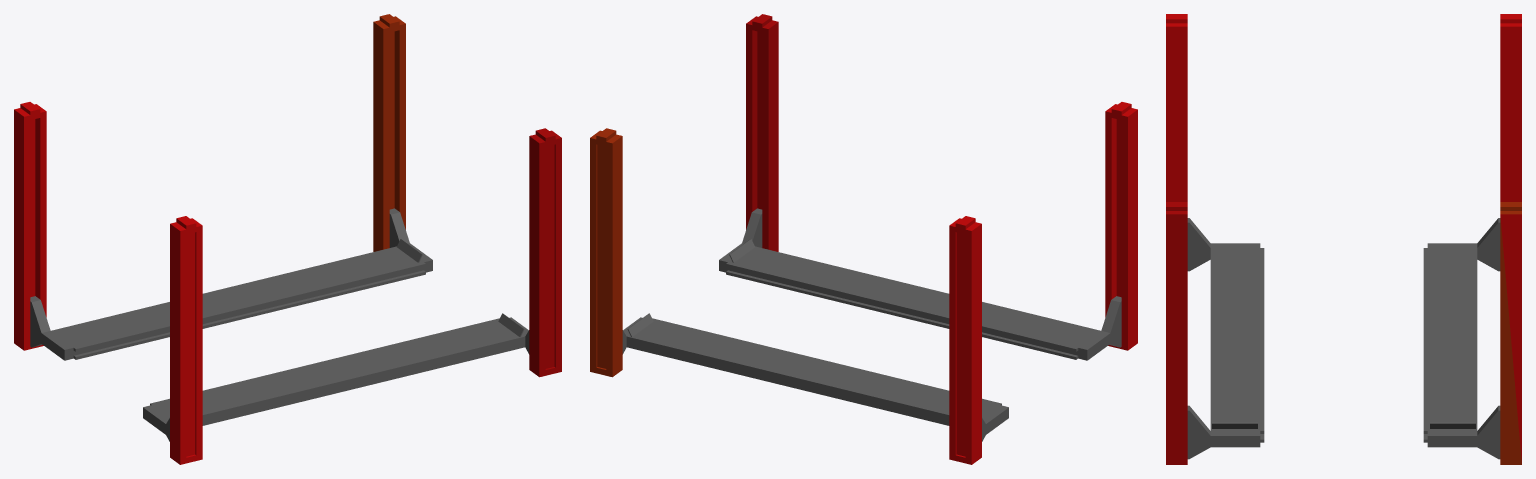
Rendered from carlift.fbx.
The picture shows the model from 3 angles, left to right: view 1: azimuth 30°, elevation 25°; view 2: azimuth 150°, elevation 25°; view 3: azimuth 270°, elevation 25°; orthographic projection. The views are drawn at different scales.
Visible parts, largest first — view 1: Carlift.001, Carlift.005, Carlift.006, Carlift.004, Carlift.003; view 2: Carlift.001, Carlift.004, Carlift.003, Carlift.005, Carlift.006; view 3: Carlift.001, Carlift.003, Carlift.006, Carlift.004, Carlift.005.
Boxes of the visible parts, x1,y1,x2,y2 form: Carlift.001: (30,208,529,441); Carlift.005: (170,216,202,464); Carlift.006: (529,128,561,377); Carlift.004: (14,102,46,350); Carlift.003: (373,14,405,251); Carlift.001: (622,208,1121,441); Carlift.004: (949,216,981,464); Carlift.003: (590,128,622,377); Carlift.005: (1105,102,1137,350); Carlift.006: (746,14,778,251); Carlift.001: (1187,218,1500,459); Carlift.003: (1500,202,1521,464); Carlift.006: (1166,202,1187,464); Carlift.004: (1500,14,1521,201); Carlift.005: (1166,14,1187,201).
Bounding box in the file's own units: 481 × 286 × 363.
Materials: 1 (1 with a texture image).
